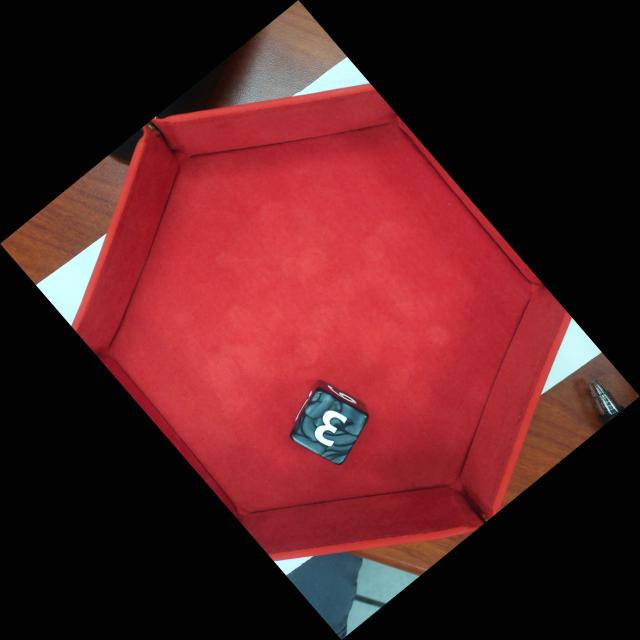dice: (294, 389, 370, 465)
